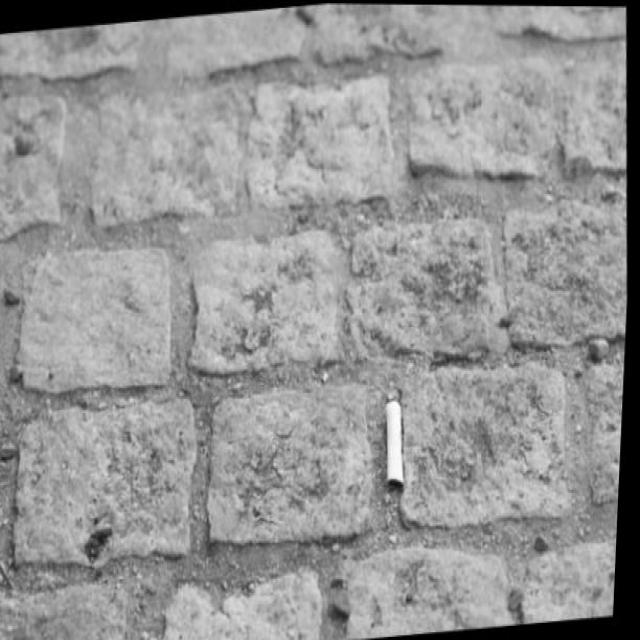cigarette: (384, 394, 412, 490)
